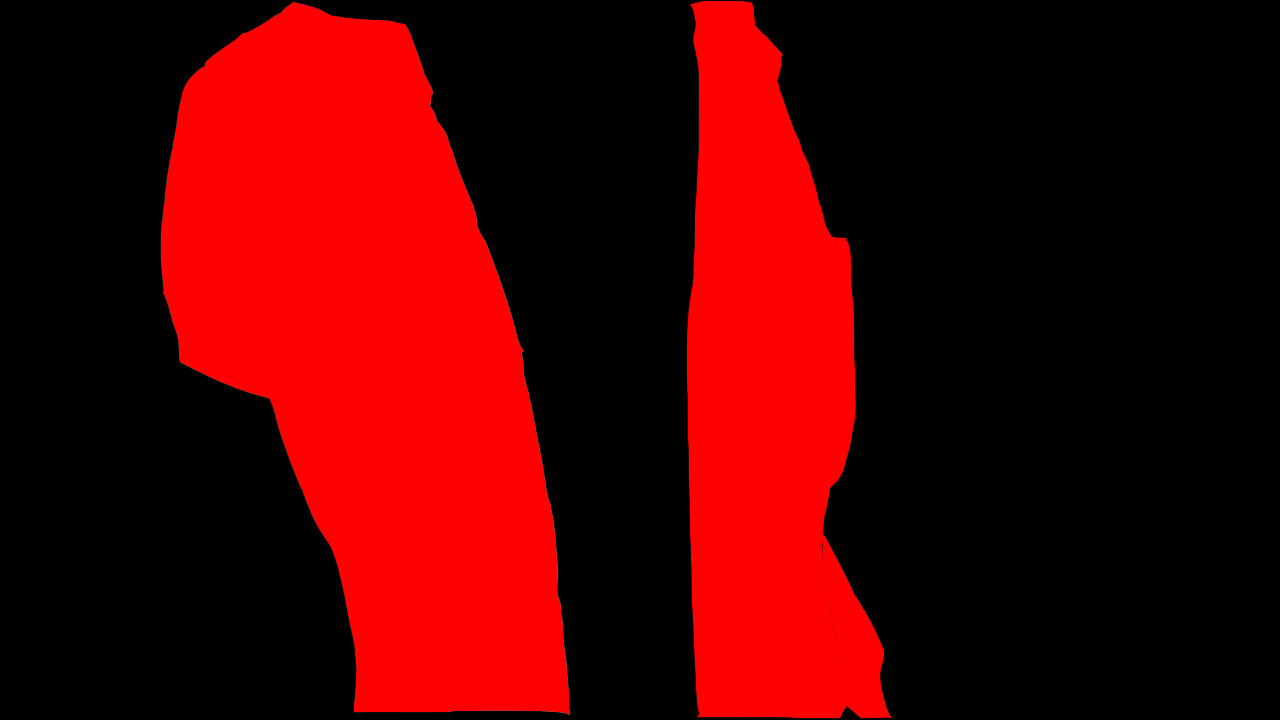uniforme_ifmt: (156, 4, 928, 720)
